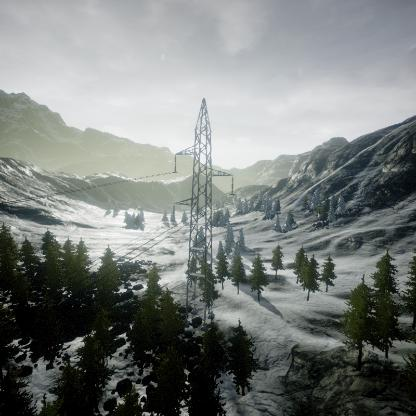tower: (172, 99, 238, 323)
